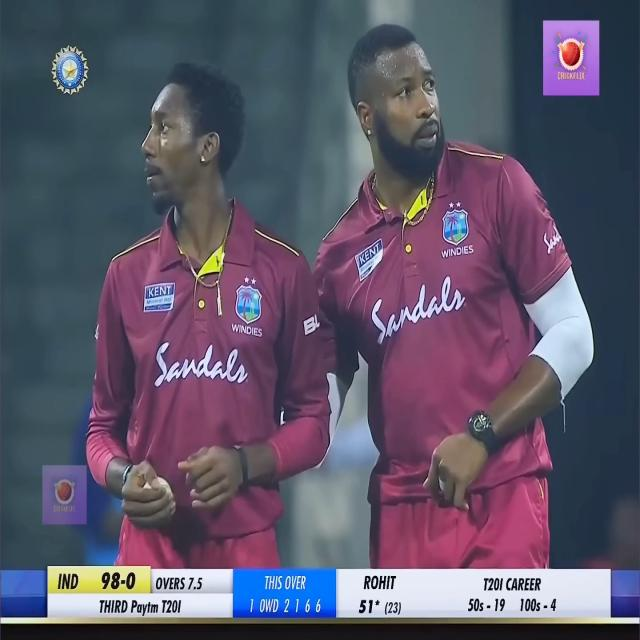fully_visible: (128, 593, 160, 622)
